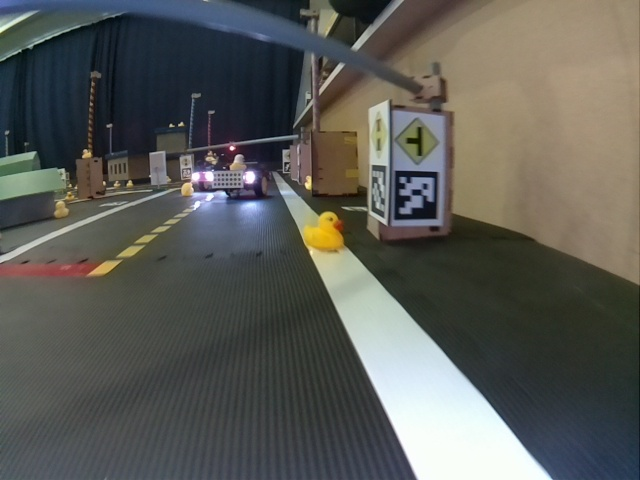Duckie: (305, 215, 342, 249), (54, 201, 69, 216), (231, 156, 246, 170), (182, 183, 190, 195), (83, 151, 92, 158)
Duckiebot: (214, 164, 267, 199), (192, 163, 221, 191)
Intersection sign: (395, 117, 441, 165)
QR code: (394, 172, 440, 223), (370, 166, 389, 216)
Signal sign: (372, 113, 391, 159)
